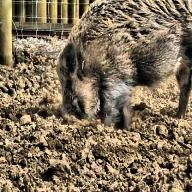boar: (40, 2, 192, 157)
